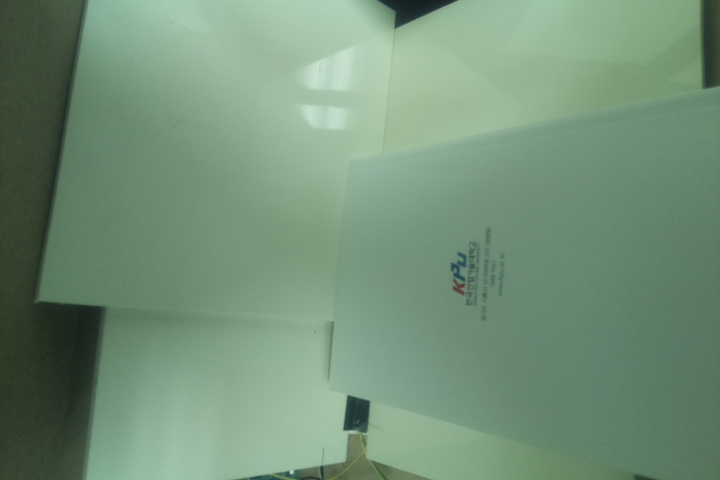book: (324, 82, 720, 480)
